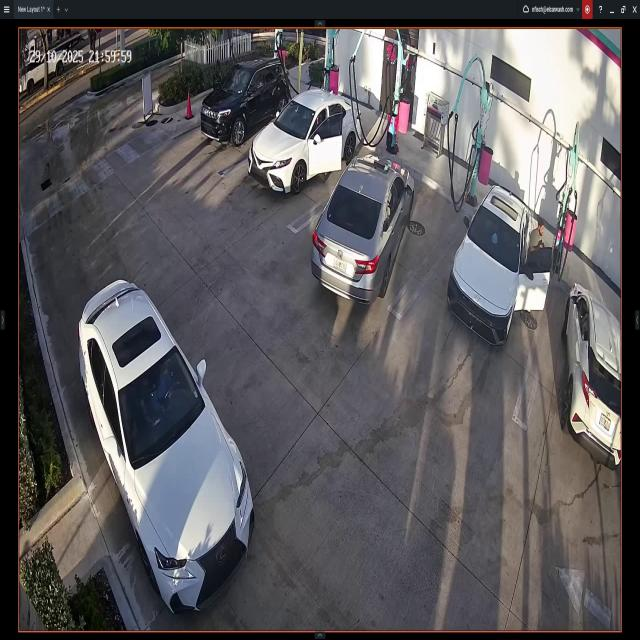Car: (78, 280, 256, 616), (448, 183, 552, 346), (311, 154, 415, 302), (251, 91, 362, 190), (567, 283, 621, 467), (201, 59, 290, 148)
